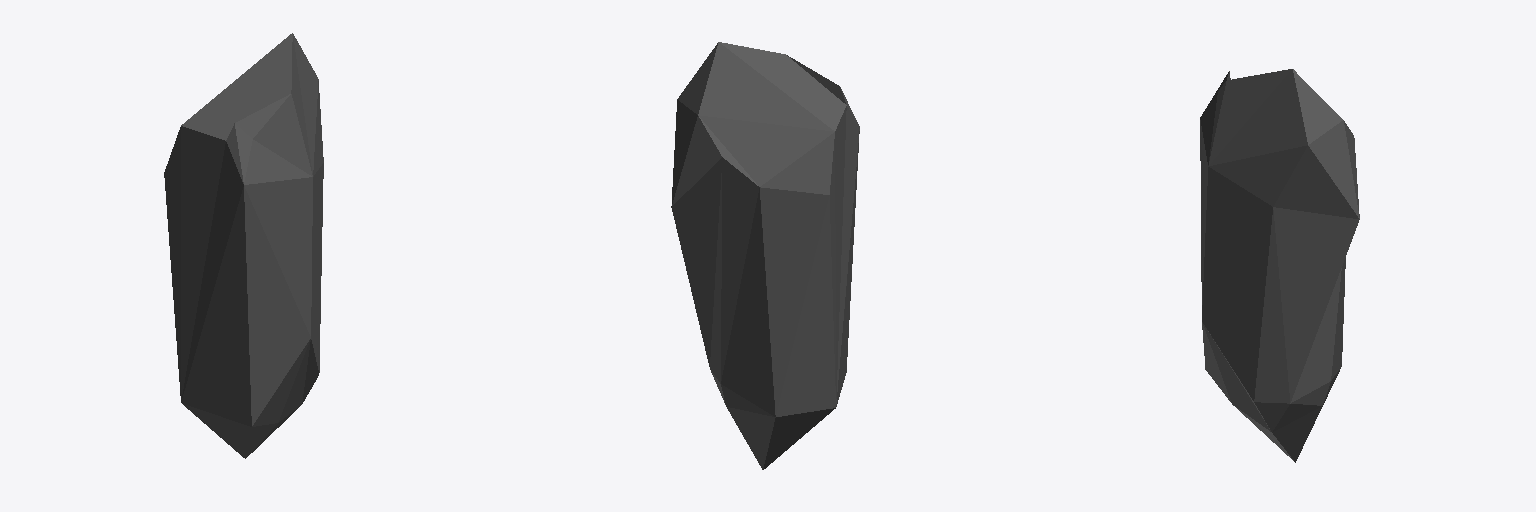
The model's file is mini5.obj.
3 views of the same model, side by side, from view 1: azimuth 30°, elevation 25°; view 2: azimuth 150°, elevation 25°; view 3: azimuth 270°, elevation 25° (orthographic).
Parts seen in each view (by area): view 1: mini5; view 2: mini5; view 3: mini5.
Boxes of the visible parts, box(x1,y1,x2,y2) form: mini5: box(164, 33, 323, 458); mini5: box(671, 42, 859, 469); mini5: box(1200, 69, 1359, 462).
Bounding box in the file's own units: 5.19 × 13.46 × 4.68.